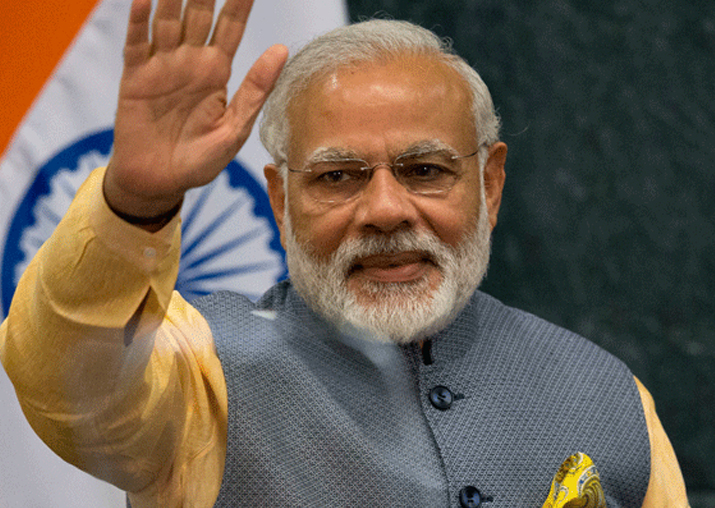modi: (215, 14, 560, 359)
